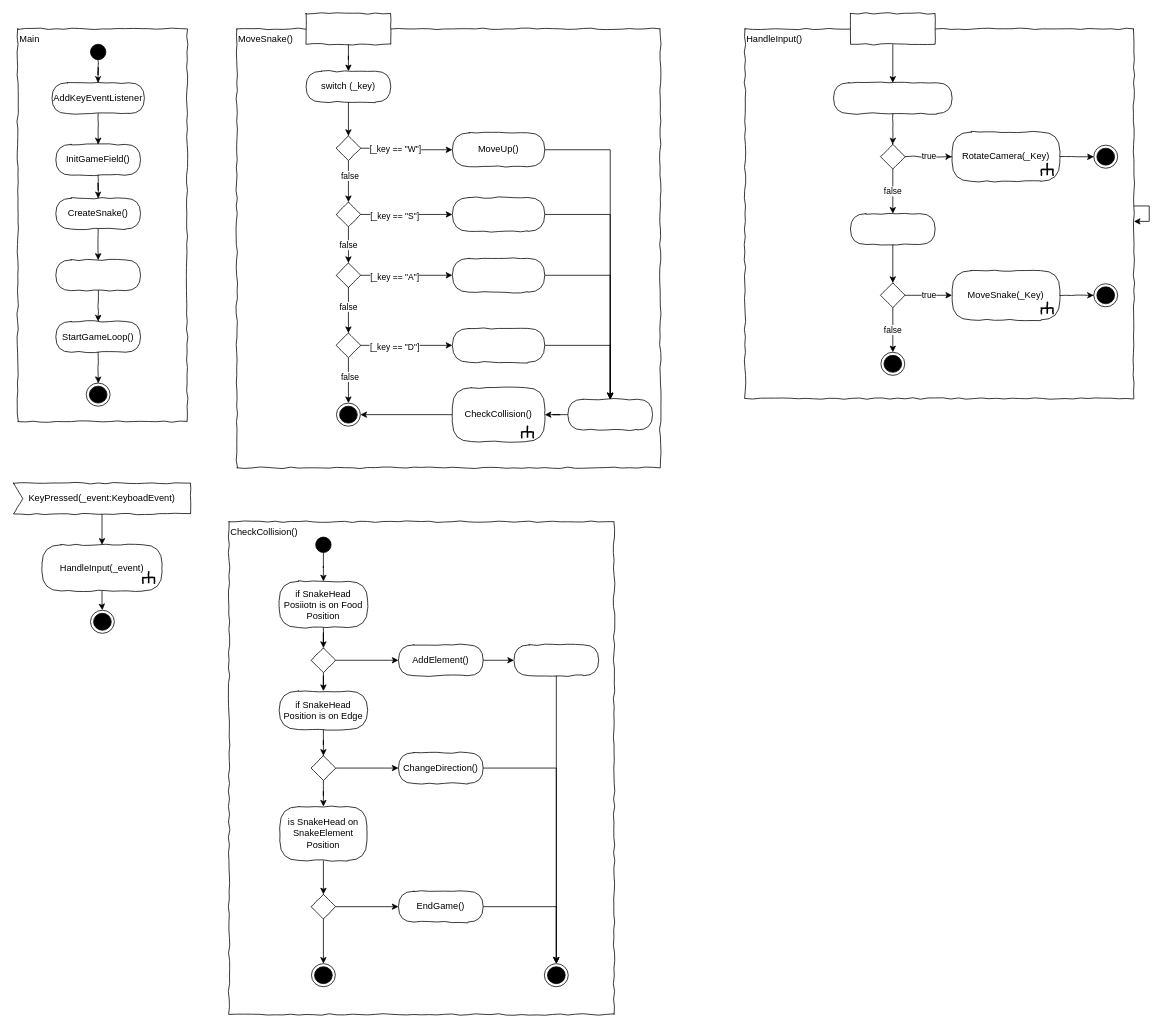
This 1169x1028 diagram has some shape labels left out. The shapes that lost their labels are listed below. From the top down, each one's centre as x and y in pixels, then its label:
At (x=348, y=28): "_key".
At (x=892, y=28): "_event".
At (x=892, y=98): "is Key Up || Down || Left || Right".
At (x=498, y=214): "MoveDown()".
At (x=892, y=228): "is Key W || A || S || D".
At (x=98, y=275): "StartMoveLoop()".
At (x=498, y=275): "MoveLeft()".
At (x=498, y=345): "MoveRight()".
At (x=610, y=414): "UpdatePositions()".
At (x=556, y=660): "Give Food new Position".
